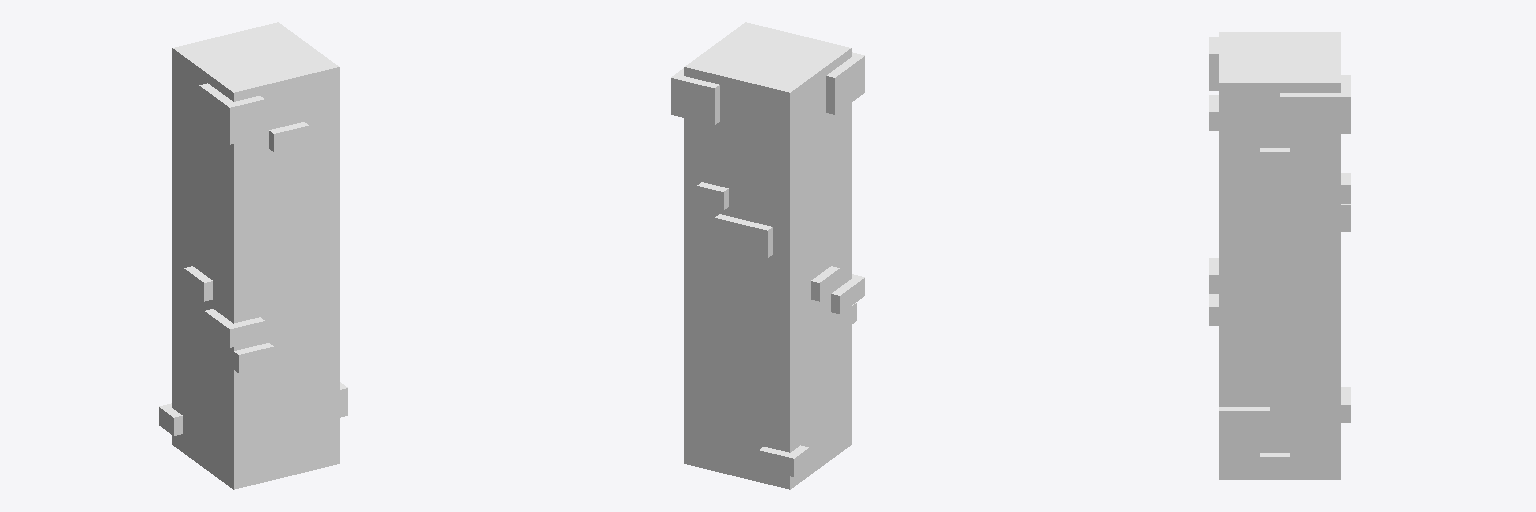
The model's file is ExtraProp-1-Pillar.obj.
3 renders of one model, left to right at view 1: azimuth 30°, elevation 25°; view 2: azimuth 150°, elevation 25°; view 3: azimuth 270°, elevation 25°, orthographic.
Visible parts, largest first — view 1: Pillar; view 2: Pillar; view 3: Pillar.
Part boxes in pixels (x1,y1,x2,y2): Pillar: (159,22,347,489); Pillar: (671,22,864,489); Pillar: (1209,32,1350,479).
Bounding box in the file's own units: 1.4 × 4.3 × 1.4.